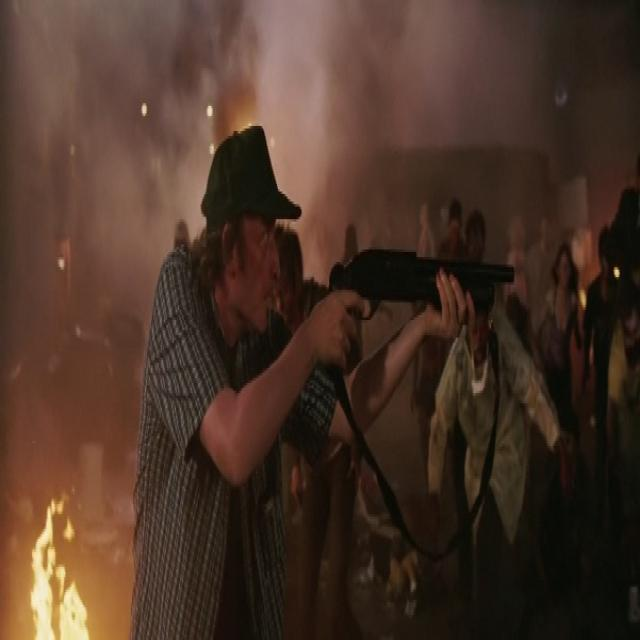rifle: (328, 239, 523, 380)
